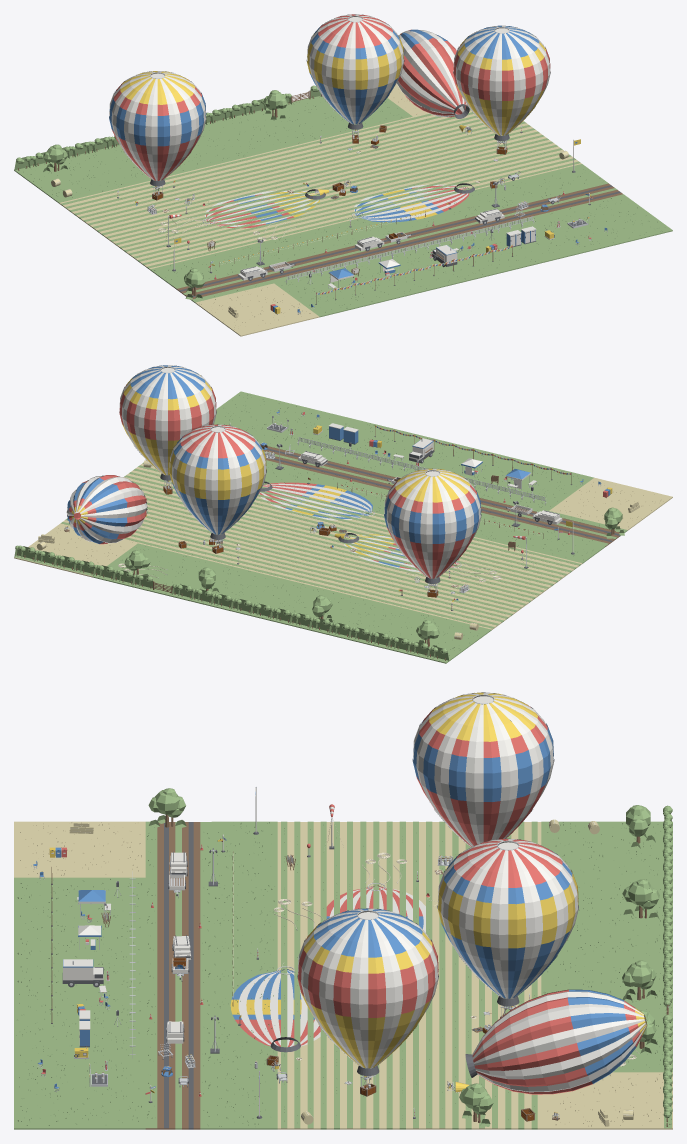
3 views of the same model, one above another, from view 1: azimuth 30°, elevation 25°; view 2: azimuth 150°, elevation 25°; view 3: azimuth 270°, elevation 25° (orthographic). The views are drawn at different scales.
Parts seen in each view (by area): view 1: 148-balloon-envelope-inflated-blue-livery/balloon-envelope-i (×4), 137-balloon-envelope-inflated/balloon-envelope-inflated-canv (×4), 163-balloon-envelope-inflated-sunrise-livery/balloon-envelop (×4), 157-balloon-envelope-part-inflated/balloon-envelope-part-inf (×2), 179-balloon-envelope-laid-out-blue-livery/balloon-envelope-l (×2), 167-balloon-envelope-laid-out/balloon-envelope-laid-out-canv (×2), 044-launch-field-mown-strip-module/launch-field-mown-strip-m (×2), 022-launch-field-mown-strip-module/launch-field-mown-strip-m (×2), 033-launch-field-mown-strip-module/launch-field-mown-strip-m (×2), 055-launch-field-mown-strip-module/launch-field-mown-strip-m (×2), 027-launch-field-mown-strip-module/launch-field-mown-strip-m (×2), 041-launch-field-mown-strip-module/launch-field-mown-strip-m (×2) (+79 smaller); view 2: 137-balloon-envelope-inflated/balloon-envelope-inflated-canv (×4), 148-balloon-envelope-inflated-blue-livery/balloon-envelope-i (×4), 163-balloon-envelope-inflated-sunrise-livery/balloon-envelop (×4), 157-balloon-envelope-part-inflated/balloon-envelope-part-inf (×3), 179-balloon-envelope-laid-out-blue-livery/balloon-envelope-l (×3), 044-launch-field-mown-strip-module/launch-field-mown-strip-m (×2), 033-launch-field-mown-strip-module/launch-field-mown-strip-m (×2), 055-launch-field-mown-strip-module/launch-field-mown-strip-m (×2), 022-launch-field-mown-strip-module/launch-field-mown-strip-m (×2), 027-launch-field-mown-strip-module/launch-field-mown-strip-m (×2), 025-launch-field-mown-strip-module/launch-field-mown-strip-m (×2), 039-launch-field-mown-strip-module/launch-field-mown-strip-m (×2) (+62 smaller); view 3: 163-balloon-envelope-inflated-sunrise-livery/balloon-envelop (×4), 148-balloon-envelope-inflated-blue-livery/balloon-envelope-i (×4), 137-balloon-envelope-inflated/balloon-envelope-inflated-canv (×4), 157-balloon-envelope-part-inflated/balloon-envelope-part-inf (×3), 179-balloon-envelope-laid-out-blue-livery/balloon-envelope-l (×3), 054-launch-field-mown-strip-module/launch-field-mown-strip-m (×2), 065-launch-field-mown-strip-module/launch-field-mown-strip-m (×2), 044-launch-field-mown-strip-module/launch-field-mown-strip-m (×2), 055-launch-field-mown-strip-module/launch-field-mown-strip-m (×2), 056-launch-field-mown-strip-module/launch-field-mown-strip-m (×2), 064-launch-field-mown-strip-module/launch-field-mown-strip-m (×2), 043-launch-field-mown-strip-module/launch-field-mown-strip-m (×2) (+89 smaller).
Part boxes in pixels (x1,y1,x2,y2): 148-balloon-envelope-inflated-blue-livery/balloon-envelope-i (×4): (307,14,403,124); 137-balloon-envelope-inflated/balloon-envelope-inflated-canv (×4): (109,71,206,180); 163-balloon-envelope-inflated-sunrise-livery/balloon-envelop (×4): (453,25,550,135); 157-balloon-envelope-part-inflated/balloon-envelope-part-inf (×2): (396,29,467,117); 179-balloon-envelope-laid-out-blue-livery/balloon-envelope-l (×2): (354,184,468,222); 167-balloon-envelope-laid-out/balloon-envelope-laid-out-canv (×2): (205,190,319,228); 044-launch-field-mown-strip-module/launch-field-mown-strip-m (×2): (104,226,166,252); 022-launch-field-mown-strip-module/launch-field-mown-strip-m (×2): (59,193,120,219); 033-launch-field-mown-strip-module/launch-field-mown-strip-m (×2): (82,210,143,236); 055-launch-field-mown-strip-module/launch-field-mown-strip-m (×2): (127,243,188,269); 027-launch-field-mown-strip-module/launch-field-mown-strip-m (×2): (256,145,317,171); 041-launch-field-mown-strip-module/launch-field-mown-strip-m (×2): (396,133,457,159); 137-balloon-envelope-inflated/balloon-envelope-inflated-canv (×4): (384,468,481,578); 148-balloon-envelope-inflated-blue-livery/balloon-envelope-i (×4): (169,424,266,534); 163-balloon-envelope-inflated-sunrise-livery/balloon-envelop (×4): (119,365,216,475); 157-balloon-envelope-part-inflated/balloon-envelope-part-inf (×3): (66,475,147,544); 179-balloon-envelope-laid-out-blue-livery/balloon-envelope-l (×3): (259,482,372,520); 044-launch-field-mown-strip-module/launch-field-mown-strip-m (×2): (498,570,559,596); 033-launch-field-mown-strip-module/launch-field-mown-strip-m (×2): (475,587,536,613); 055-launch-field-mown-strip-module/launch-field-mown-strip-m (×2): (520,553,582,580); 022-launch-field-mown-strip-module/launch-field-mown-strip-m (×2): (453,603,514,629); 027-launch-field-mown-strip-module/launch-field-mown-strip-m (×2): (256,555,317,581); 025-launch-field-mown-strip-module/launch-field-mown-strip-m (×2): (335,574,395,600); 039-launch-field-mown-strip-module/launch-field-mown-strip-m (×2): (240,529,300,555); 163-balloon-envelope-inflated-sunrise-livery/balloon-envelop (×4): (298,908,438,1068); 148-balloon-envelope-inflated-blue-livery/balloon-envelope-i (×4): (438,839,578,998); 137-balloon-envelope-inflated/balloon-envelope-inflated-canv (×4): (413,692,553,847); 157-balloon-envelope-part-inflated/balloon-envelope-part-inf (×3): (472,989,647,1094); 179-balloon-envelope-laid-out-blue-livery/balloon-envelope-l (×3): (231,969,320,1046); 054-launch-field-mown-strip-module/launch-field-mown-strip-m (×2): (343,1100,409,1129); 065-launch-field-mown-strip-module/launch-field-mown-strip-m (×2): (277,1100,343,1129); 044-launch-field-mown-strip-module/launch-field-mown-strip-m (×2): (343,821,409,849); 055-launch-field-mown-strip-module/launch-field-mown-strip-m (×2): (277,821,343,849); 056-launch-field-mown-strip-module/launch-field-mown-strip-m (×2): (277,849,343,877); 064-launch-field-mown-strip-module/launch-field-mown-strip-m (×2): (277,1072,343,1100); 043-launch-field-mown-strip-module/launch-field-mown-strip-m (×2): (409,1100,475,1129).
Size of the model in its own units: 88.83 by 24.37 by 80.
12 materials, 1 textured.
